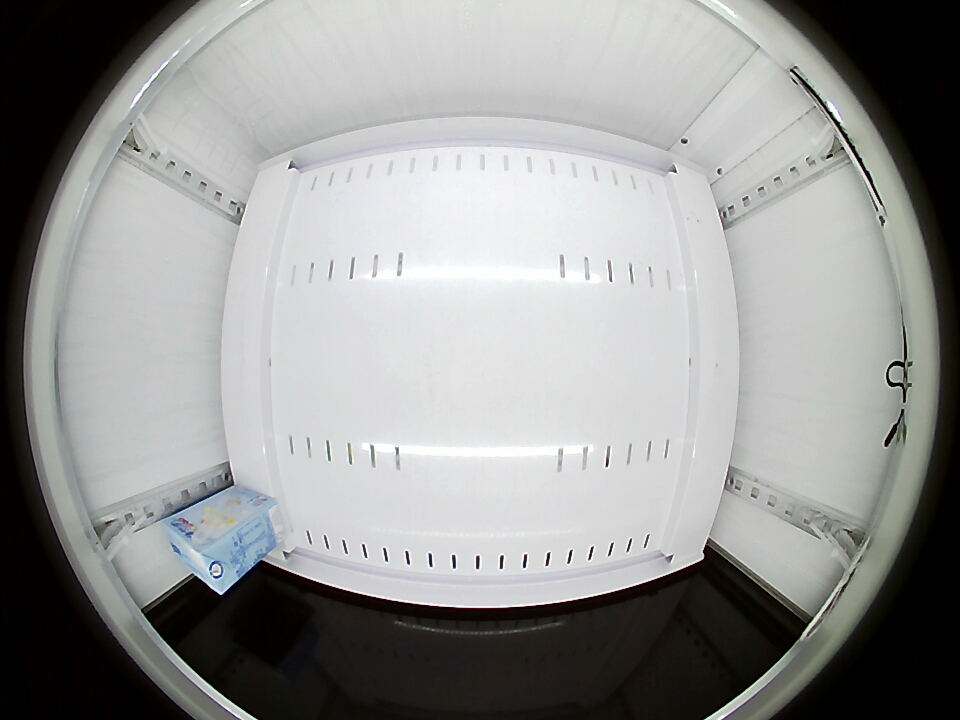weitanaiditang: (165, 512, 246, 594)
